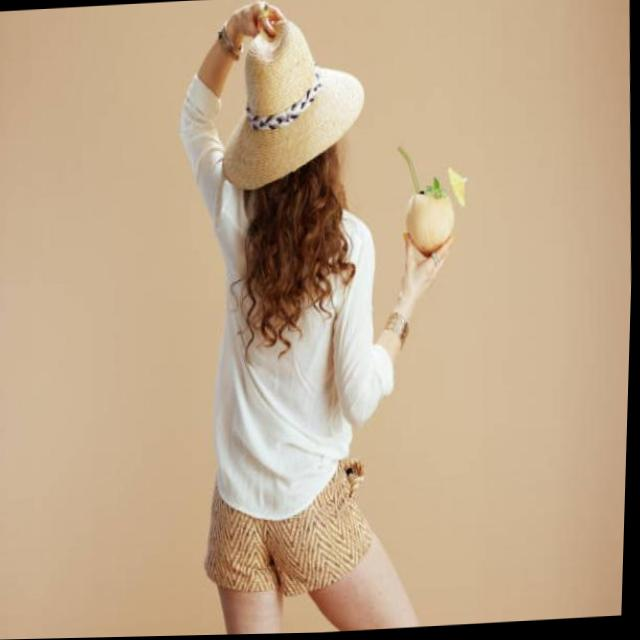no helmet: (190, 0, 388, 277)
